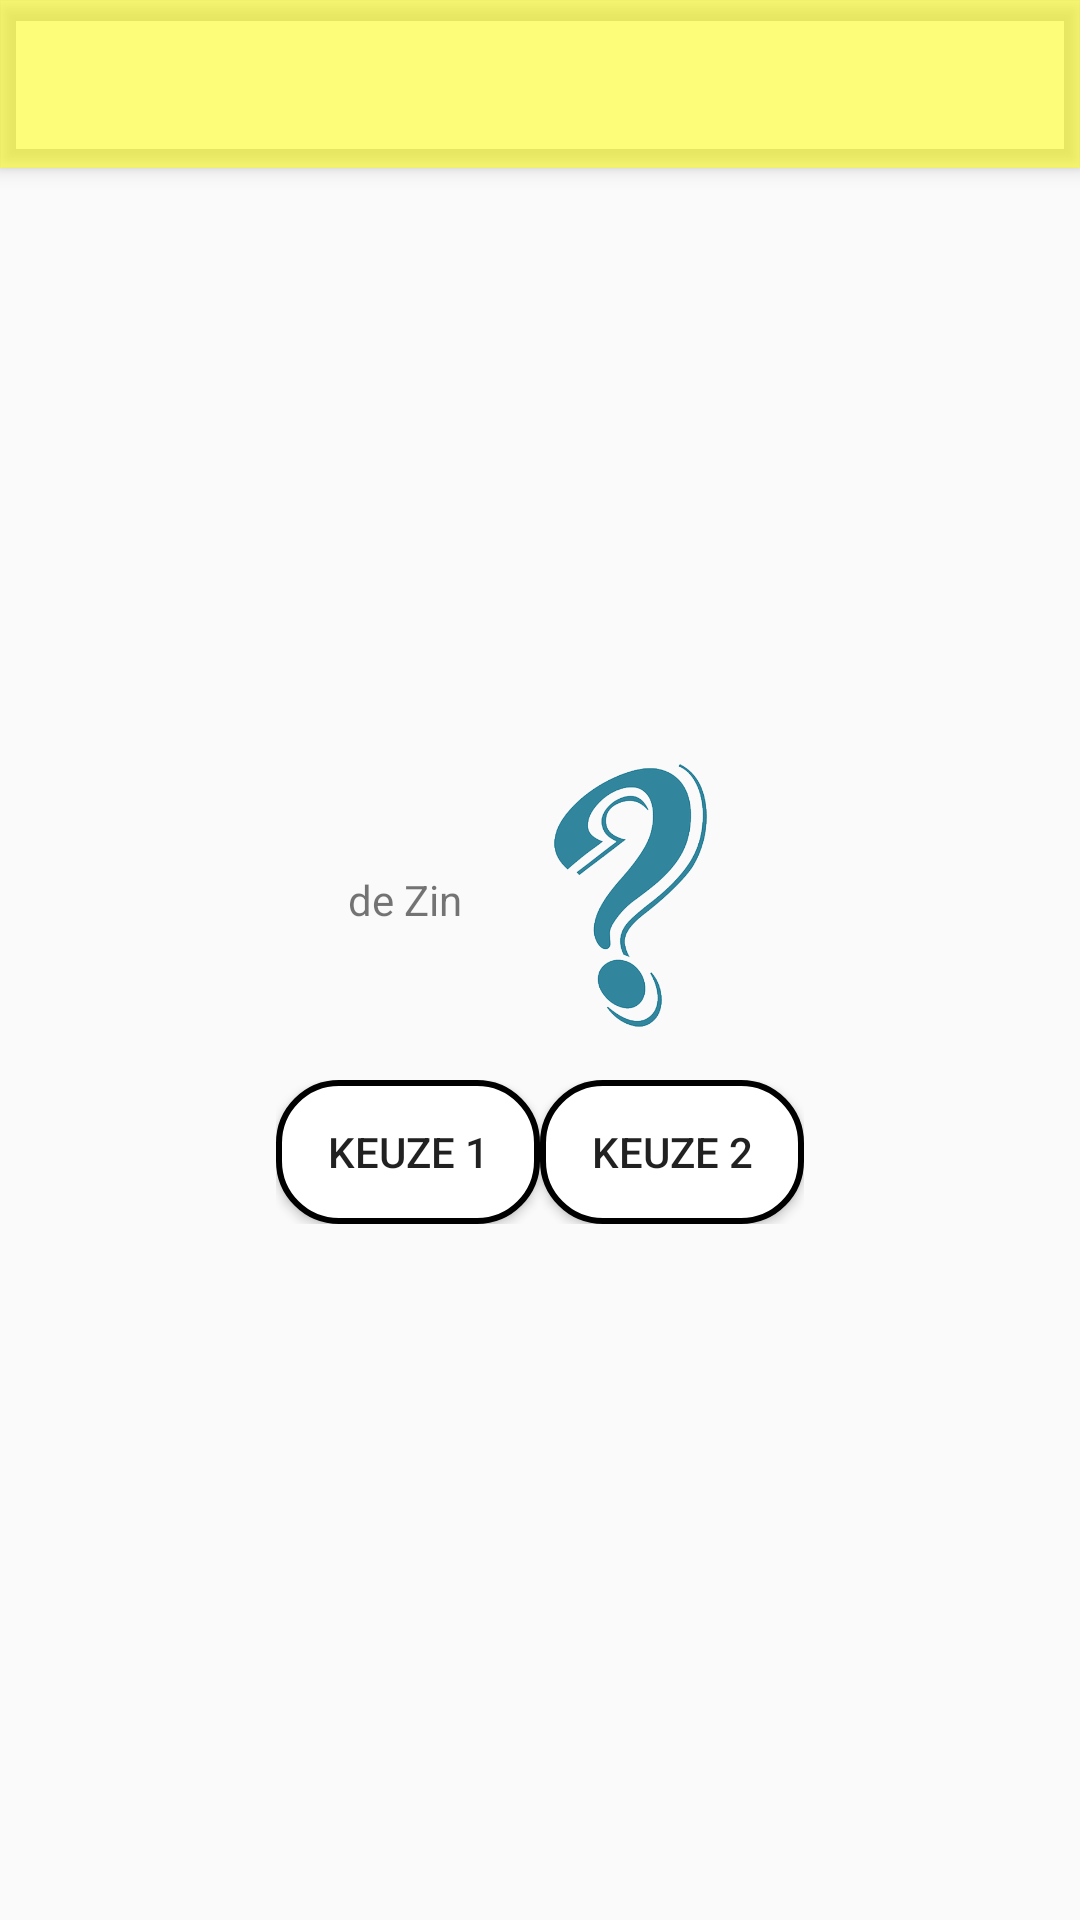

Named icons in this screenshot (1080×1920) and their bounding boxes, box(x1, y1, x2, y2):
question mark: box(554, 764, 707, 1027)
